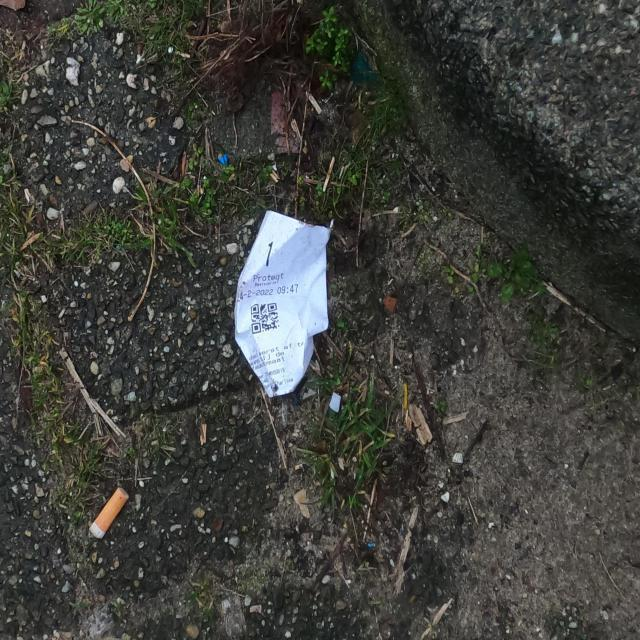Paper: (231, 207, 335, 400)
